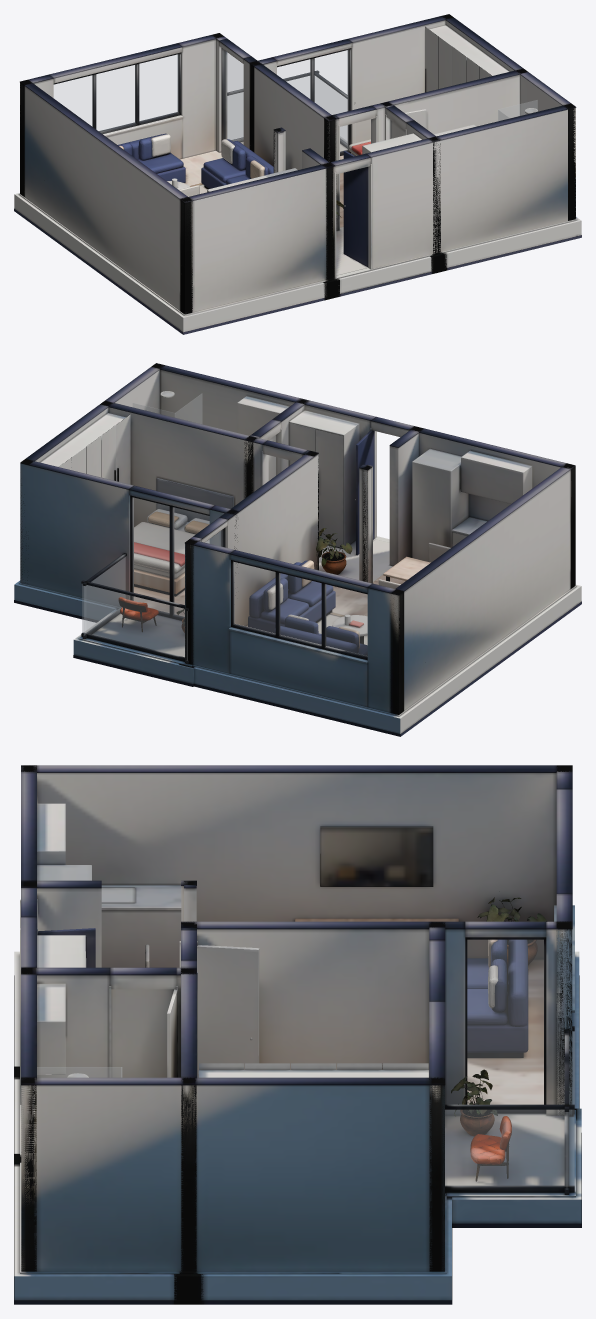
3 views of the same model, one above another, from view 1: azimuth 30°, elevation 25°; view 2: azimuth 150°, elevation 25°; view 3: azimuth 270°, elevation 25° (orthographic). The views are drawn at different scales.
Visible parts, largest first — view 1: plan, glass0_m, glass2_m, glass1_m, railg0_m, railg5_m, sg.001_m; view 2: plan, glass0_m, glass2_m, railg0_m, railg5_m, sg_m; view 3: plan, glass1_m, railg5_m, sg_m.
Boxes of the visible parts, left/top/right/bottom form: plan: left=14, top=14, right=581, bottom=334; glass0_m: left=54, top=54, right=178, bottom=131; glass2_m: left=277, top=50, right=348, bottom=152; glass1_m: left=224, top=50, right=243, bottom=143; railg0_m: left=228, top=76, right=309, bottom=139; railg5_m: left=315, top=76, right=346, bottom=143; sg.001_m: left=498, top=100, right=537, bottom=120; plan: left=14, top=363, right=581, bottom=736; glass0_m: left=233, top=562, right=367, bottom=656; glass2_m: left=133, top=497, right=209, bottom=617; railg0_m: left=82, top=584, right=184, bottom=657; railg5_m: left=84, top=557, right=125, bottom=635; sg_m: left=175, top=394, right=202, bottom=423; plan: left=14, top=765, right=581, bottom=1304; glass1_m: left=467, top=940, right=543, bottom=1104; railg5_m: left=445, top=1110, right=574, bottom=1186; sg_m: left=37, top=1067, right=121, bottom=1077.
Bounding box in the file's own units: 8.41 × 2.62 × 6.21.
2 materials, 1 textured.
